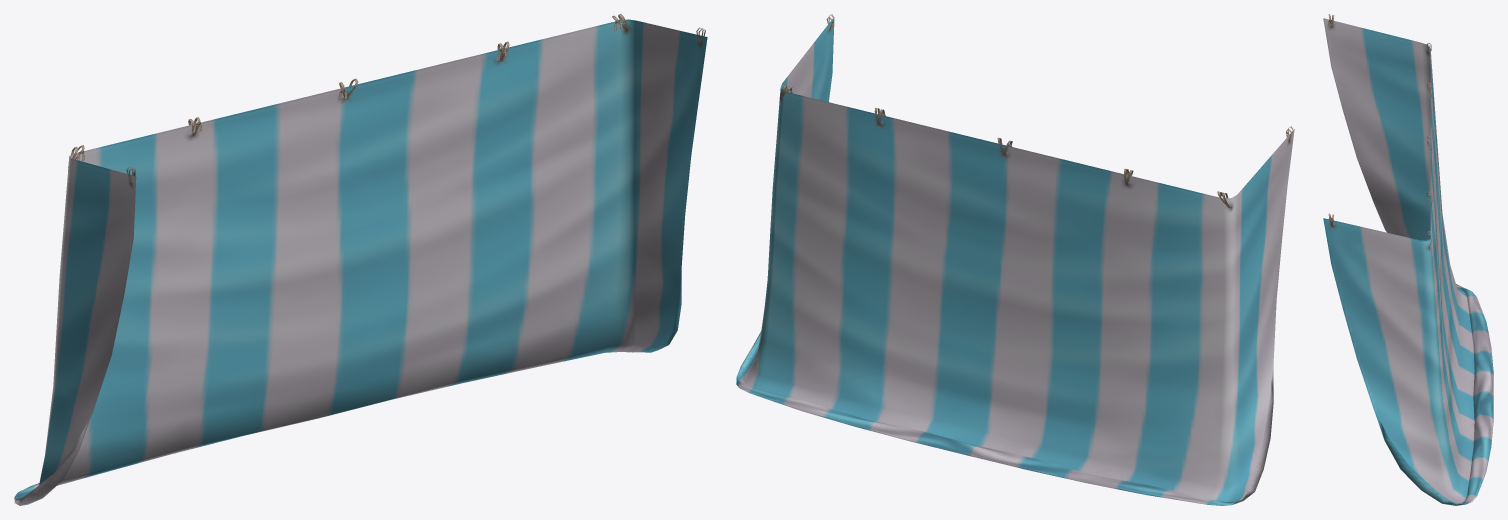
Rendered from jsf_BackSide_s03_c02_t01.fbx.
3 views of the same model, side by side, from view 1: azimuth 30°, elevation 25°; view 2: azimuth 150°, elevation 25°; view 3: azimuth 270°, elevation 25° (orthographic). The views are drawn at different scales.
Parts seen in each view (by area): view 1: jsf_BackSide_s03_c02_t01; view 2: jsf_BackSide_s03_c02_t01; view 3: jsf_BackSide_s03_c02_t01.
Boxes of the visible parts, x1,y1,x2,y2 form: jsf_BackSide_s03_c02_t01: [14, 14, 707, 505]; jsf_BackSide_s03_c02_t01: [736, 14, 1294, 505]; jsf_BackSide_s03_c02_t01: [1323, 14, 1493, 505].
Bounding box in the file's own units: 348 × 205 × 112.
